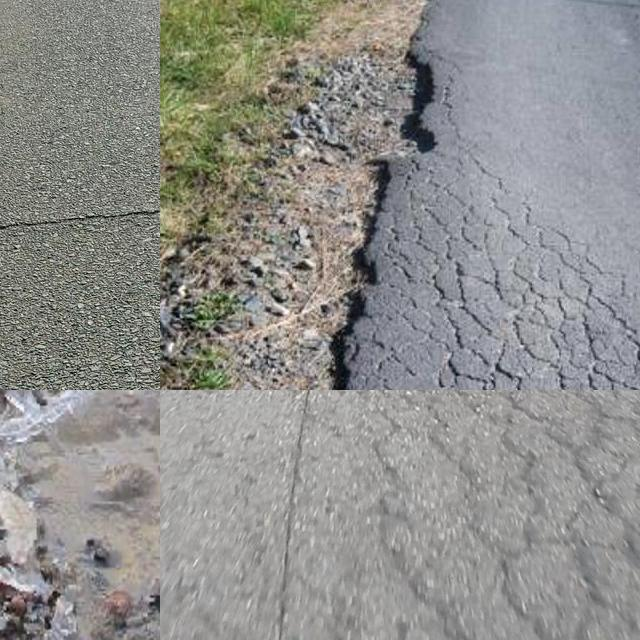Lubang: (0, 390, 160, 640)
Melintang: (0, 199, 160, 247)
Pinggir: (199, 34, 498, 390)
Retak Buaya: (360, 390, 640, 640), (357, 156, 640, 390)
